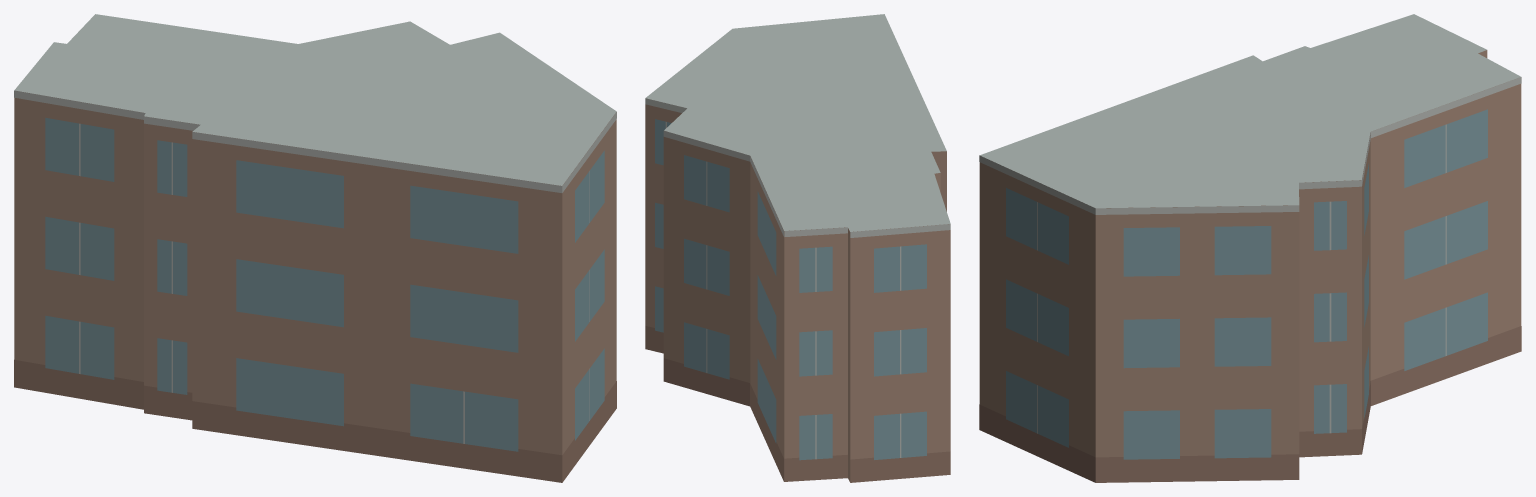
The model's file is survey-upis-32458638.glb.
3 renders of one model, left to right at view 1: azimuth 30°, elevation 25°; view 2: azimuth 150°, elevation 25°; view 3: azimuth 270°, elevation 25°, orthographic. The views are drawn at different scales.
Visible parts, largest first — view 1: survey-upis-32458638.tmp; view 2: survey-upis-32458638.tmp; view 3: survey-upis-32458638.tmp.
Part boxes in pixels (x1=…): survey-upis-32458638.tmp: x1=14, y1=14, x2=616, y2=482; survey-upis-32458638.tmp: x1=645, y1=14, x2=950, y2=482; survey-upis-32458638.tmp: x1=979, y1=14, x2=1521, y2=482.
Size of the model in its own units: 15.18 by 10 by 17.89.
